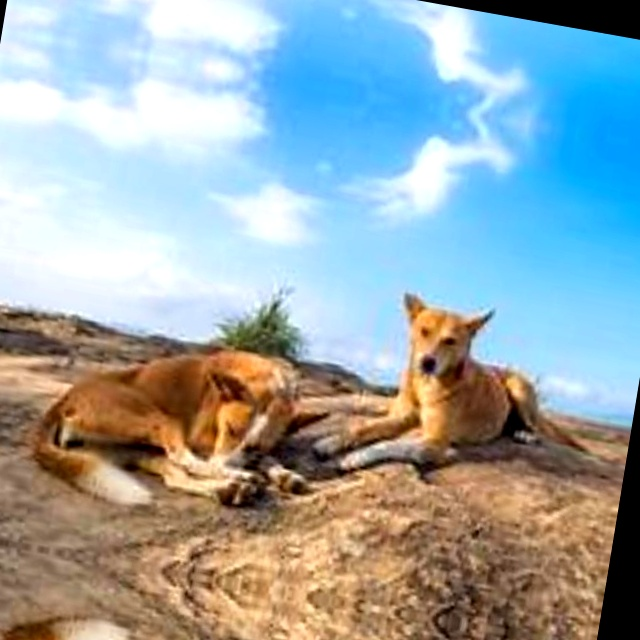dog: (378, 284, 571, 463)
